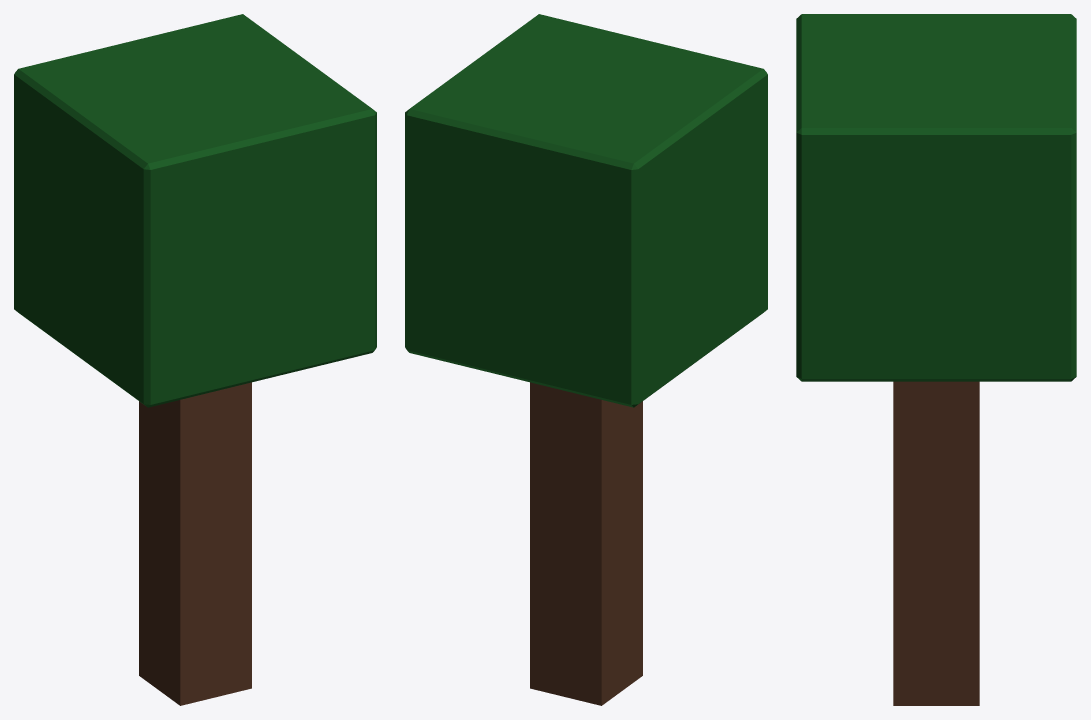
Rendered from Tree.fbx.
3 views of the same model, side by side, from view 1: azimuth 30°, elevation 25°; view 2: azimuth 150°, elevation 25°; view 3: azimuth 270°, elevation 25° (orthographic). The views are drawn at different scales.
Visible parts, largest first — view 1: Cube.001, Cube; view 2: Cube.001, Cube; view 3: Cube.001, Cube.
Boxes of the visible parts, x1,y1,x2,y2 form: Cube.001: (14,14,376,407); Cube: (139,382,251,705); Cube.001: (405,14,767,407); Cube: (530,382,642,705); Cube.001: (796,14,1076,381); Cube: (893,381,979,705).
Size of the model in its own units: 650 by 1580 by 650.
2 materials, 2 textured.
